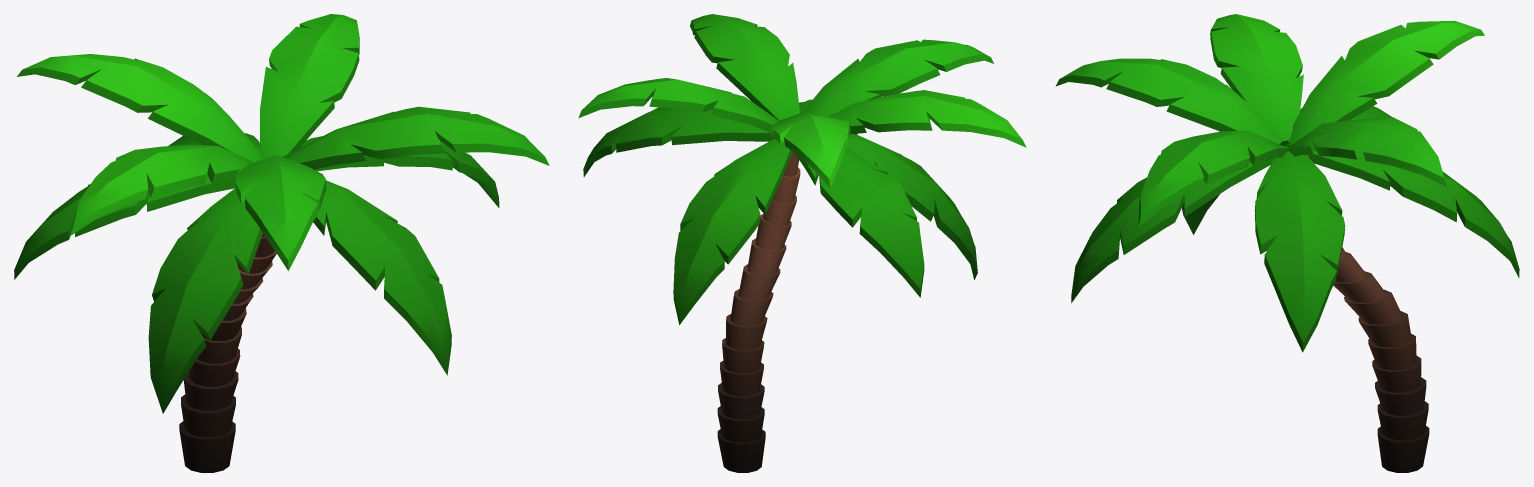
File: Tree4.glb
3 renders of one model, left to right at view 1: azimuth 30°, elevation 25°; view 2: azimuth 150°, elevation 25°; view 3: azimuth 270°, elevation 25°, orthographic. The views are drawn at different scales.
Parts seen in each view (by area): view 1: Tree.003; view 2: Tree.003; view 3: Tree.003.
Part boxes in pixels (left/top/right/bottom): Tree.003: left=14, top=14, right=549, bottom=472; Tree.003: left=578, top=14, right=1026, bottom=472; Tree.003: left=1055, top=14, right=1519, bottom=472.
Bounding box in the file's own units: 19.52 × 16.59 × 17.88.
2 materials, 2 textured.
